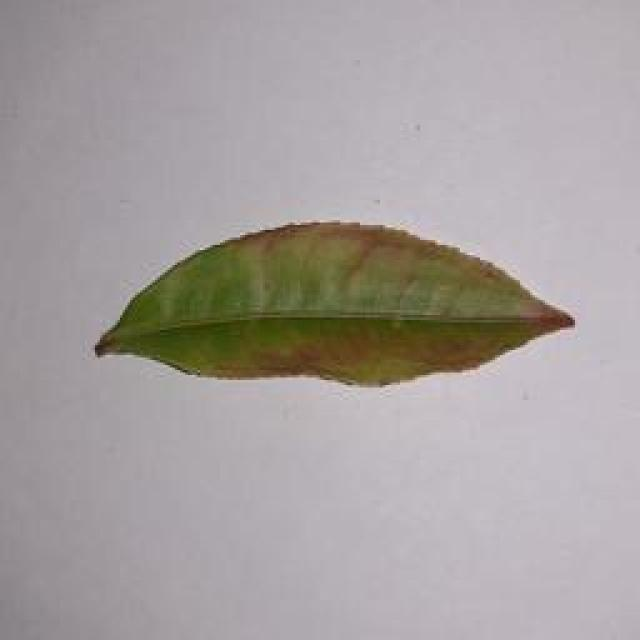Red Leaf Spot: (89, 213, 577, 390)
